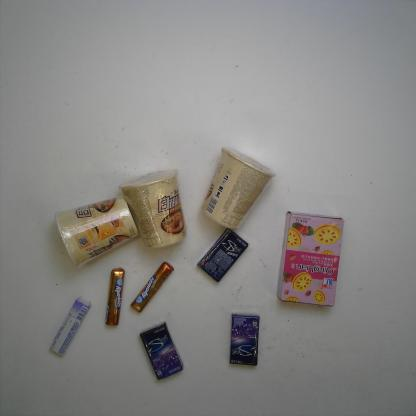Candy: (49, 299, 91, 355), (130, 262, 174, 313), (106, 268, 124, 325)
Dessert: (277, 212, 344, 306)
Gum: (199, 228, 249, 283), (140, 321, 184, 380), (230, 312, 260, 366)
Instant Noodles: (201, 146, 276, 230), (55, 196, 139, 268), (119, 169, 187, 249)
